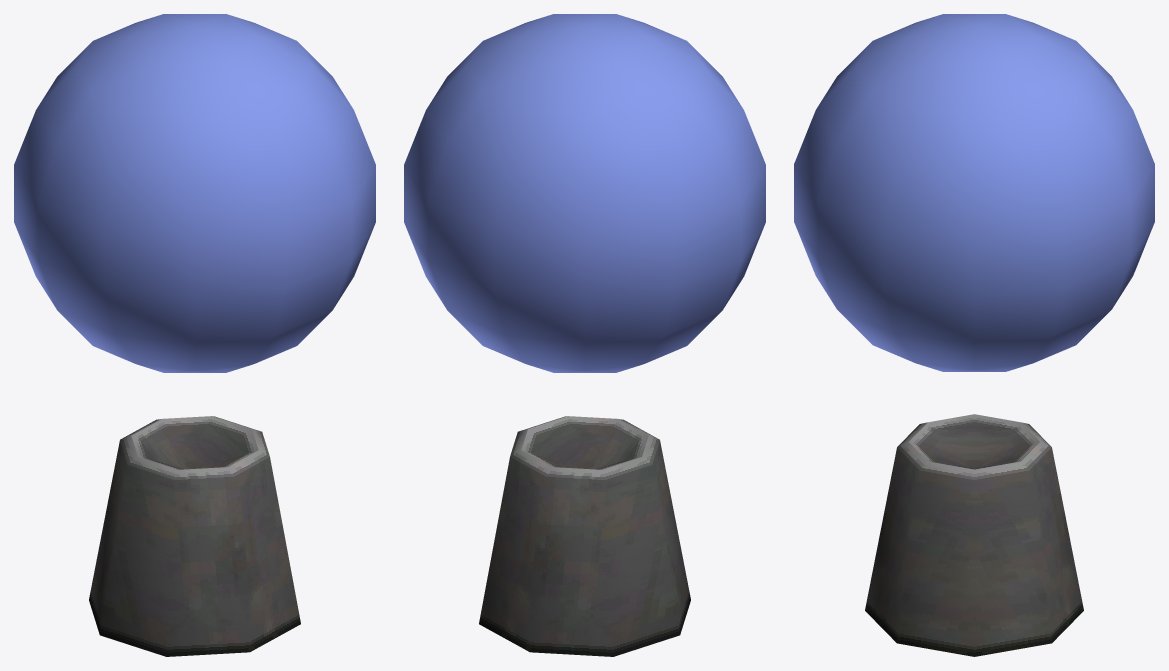
The model's file is lifeday_orb_l0.fbx.
The picture shows the model from 3 angles, left to right: view 1: azimuth 30°, elevation 25°; view 2: azimuth 150°, elevation 25°; view 3: azimuth 270°, elevation 25°; orthographic projection.
Visible parts, largest first — view 1: mesh_node; view 2: mesh_node; view 3: mesh_node.
Boxes of the visible parts, x1,y1,x2,y2 form: mesh_node: (14, 14, 375, 656); mesh_node: (404, 14, 765, 656); mesh_node: (794, 14, 1154, 656).
Size of the model in its own units: 0.2138 by 0.3816 by 0.2138.
